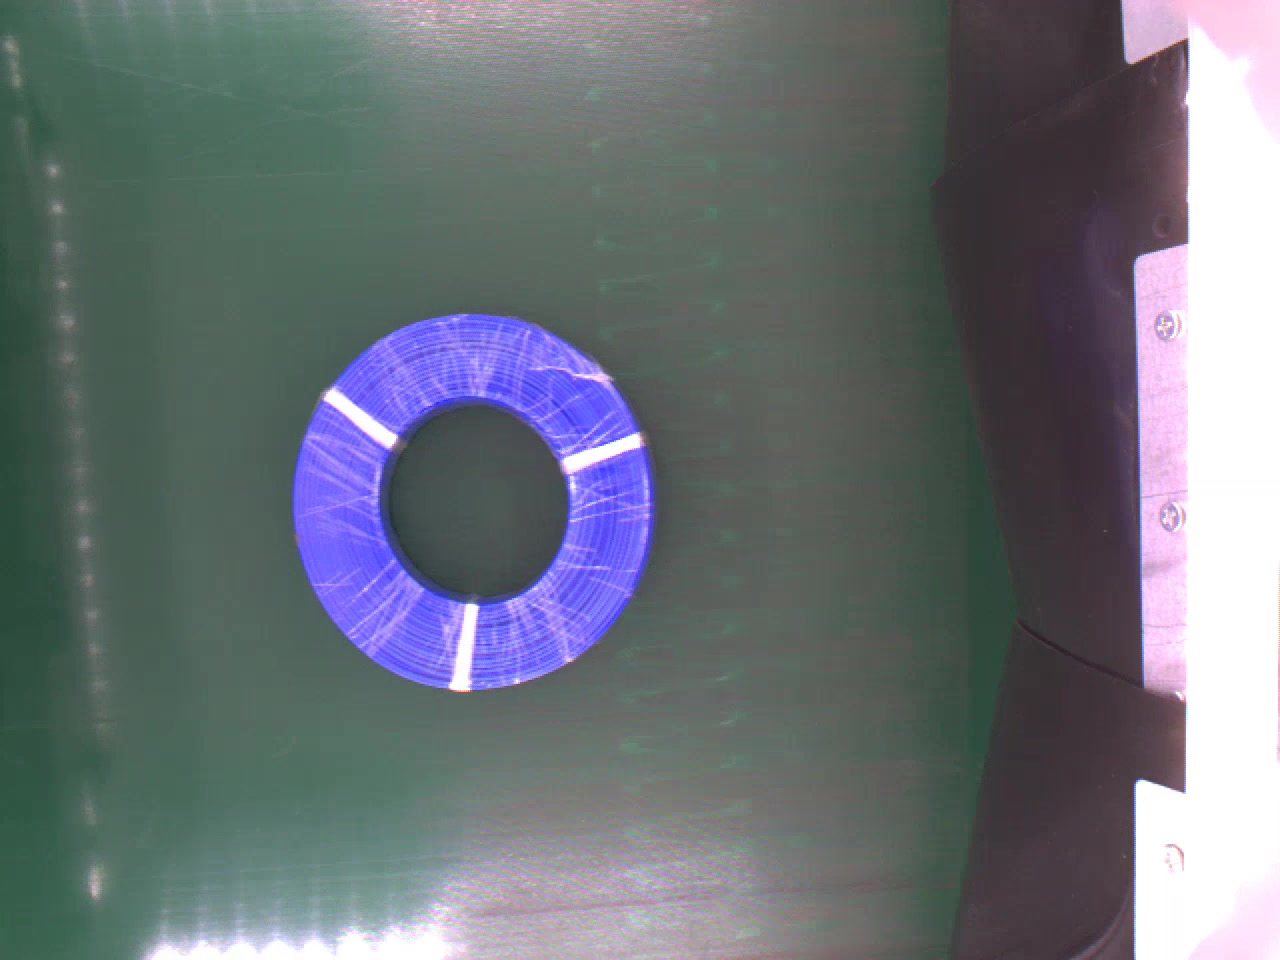blue: (280, 303, 662, 687)
